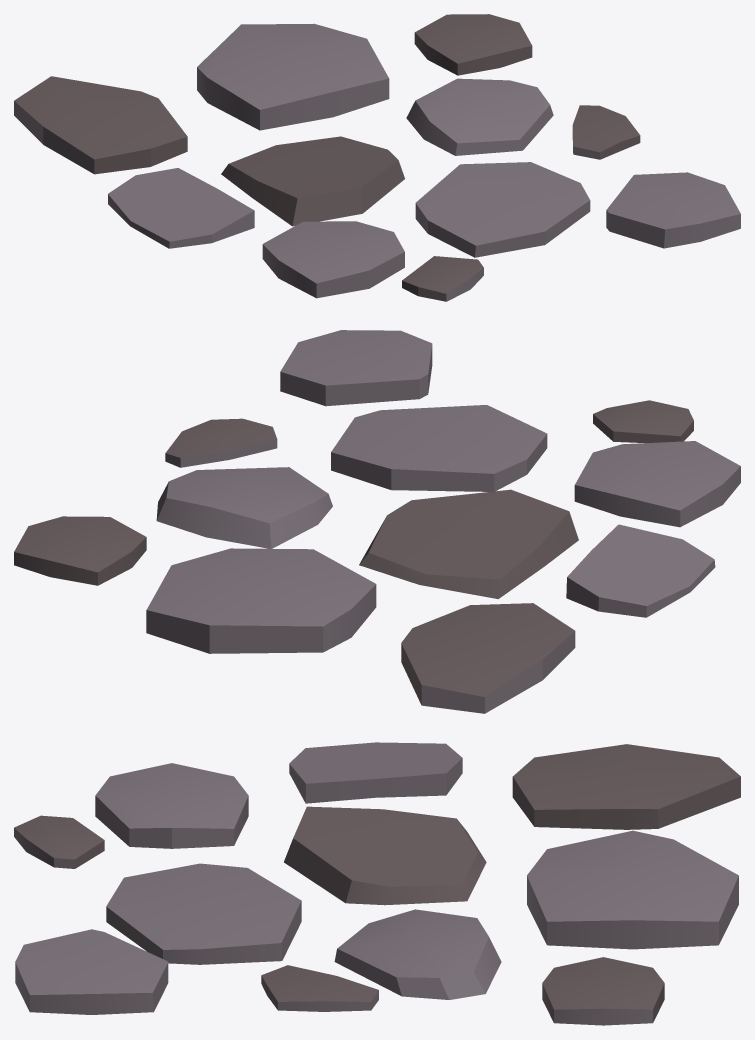
The picture shows the model from 3 angles, top to bottom: view 1: azimuth 30°, elevation 25°; view 2: azimuth 150°, elevation 25°; view 3: azimuth 270°, elevation 25°; orthographic projection. The views are drawn at different scales.
Visible parts, largest first — view 1: cobblestone_3; view 2: cobblestone_3; view 3: cobblestone_3.
Part boxes in pixels (left/top/right/bottom): cobblestone_3: left=14, top=14, right=740, bottom=301; cobblestone_3: left=14, top=330, right=740, bottom=713; cobblestone_3: left=14, top=742, right=740, bottom=1025.
Size of the model in its own units: 1.7 by 0.1137 by 1.9.
1 material, 1 textured.
